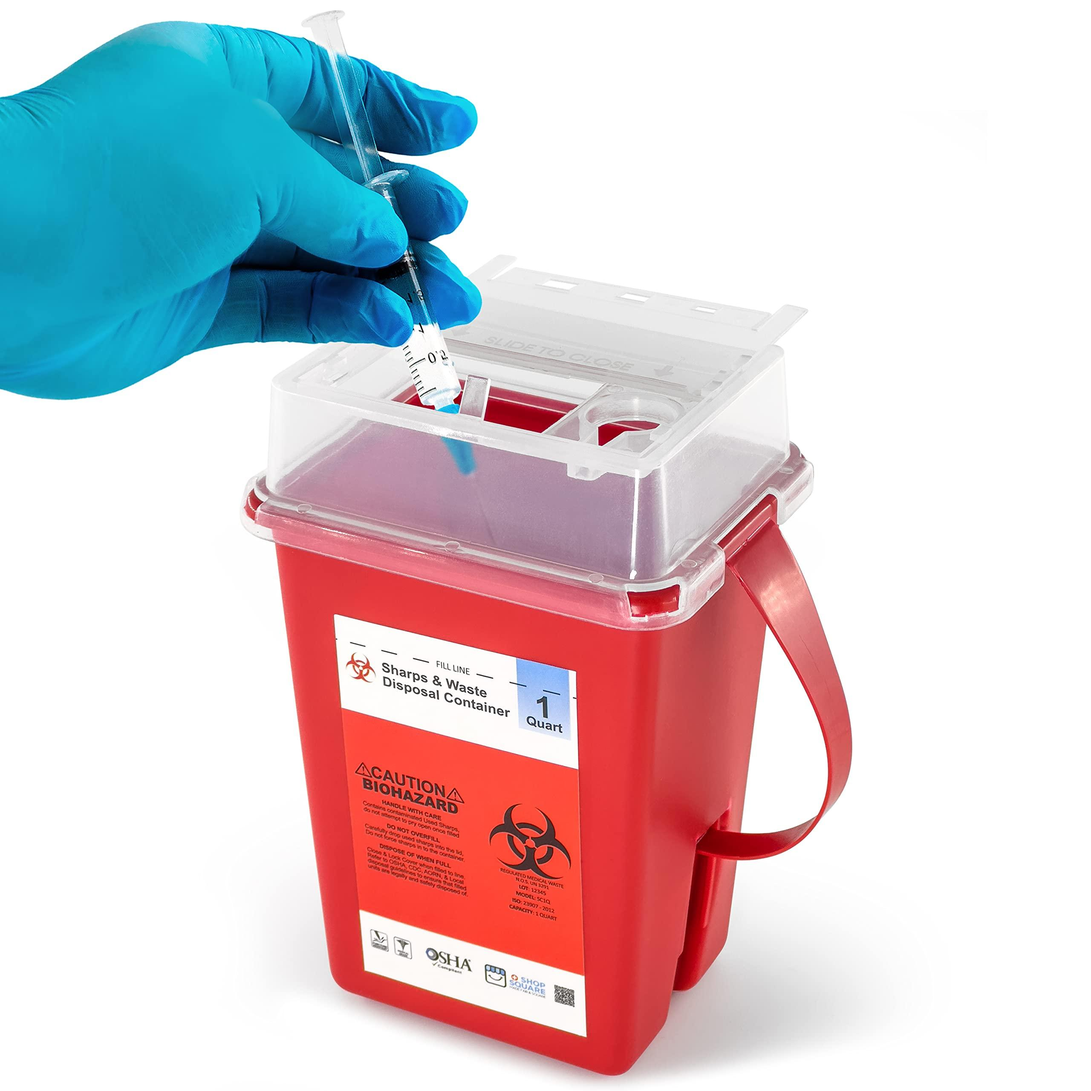Glove: (0, 23, 479, 398)
Syringe: (303, 10, 407, 218)
